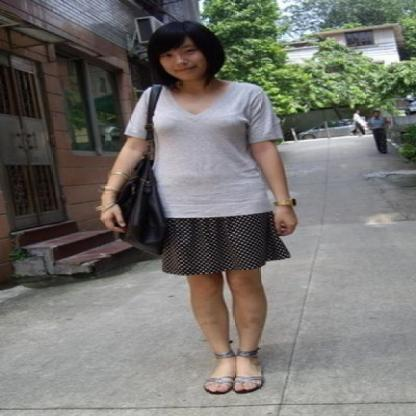bag: (112, 84, 178, 264)
shirt: (125, 81, 284, 219)
shoe: (205, 361, 275, 395)
skirt: (151, 210, 286, 274)
